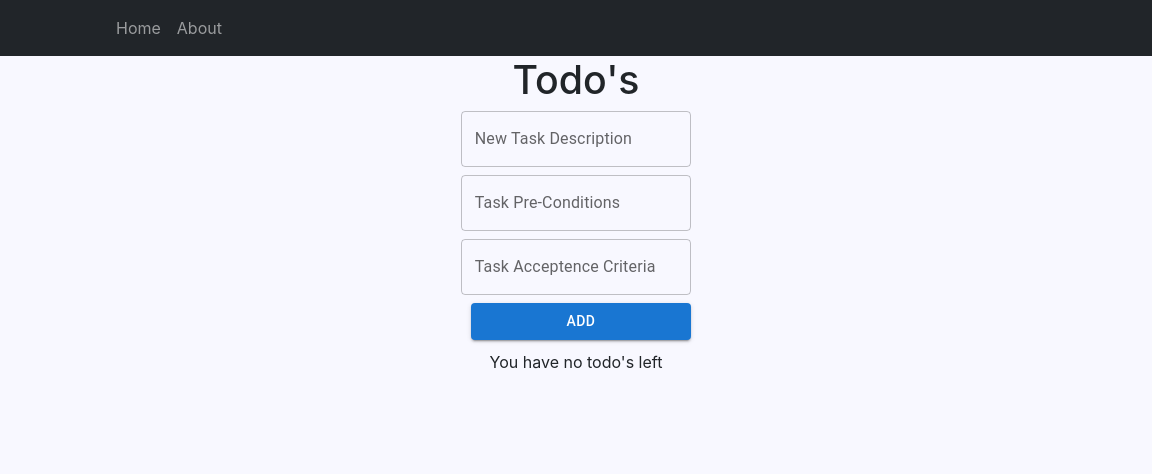
it: test that App component renders Task
Type "History Test" into the field labelled "New Task Description" at (576, 139), box [461,111,691,167]
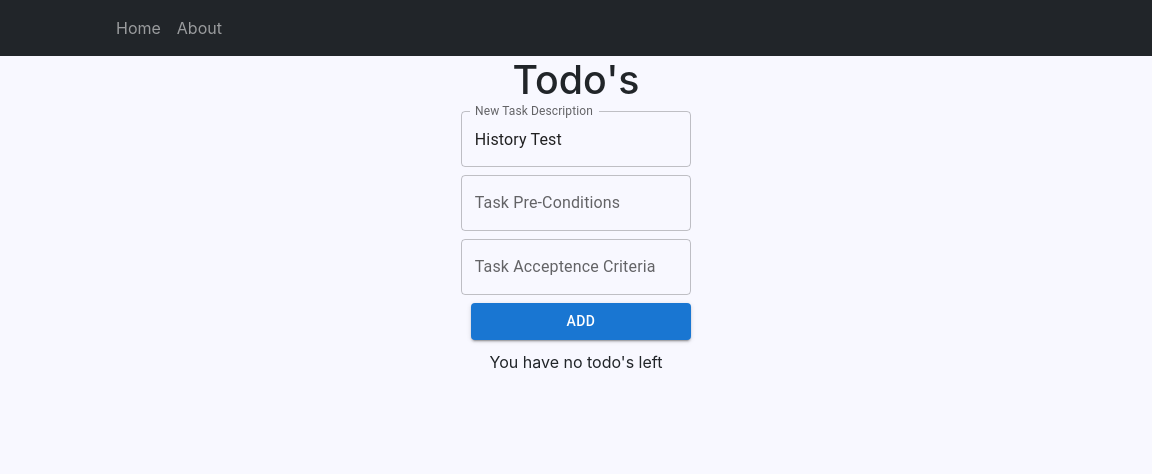
Click the button with test id "new-item-button" at (581, 321), box [471,303,691,340]
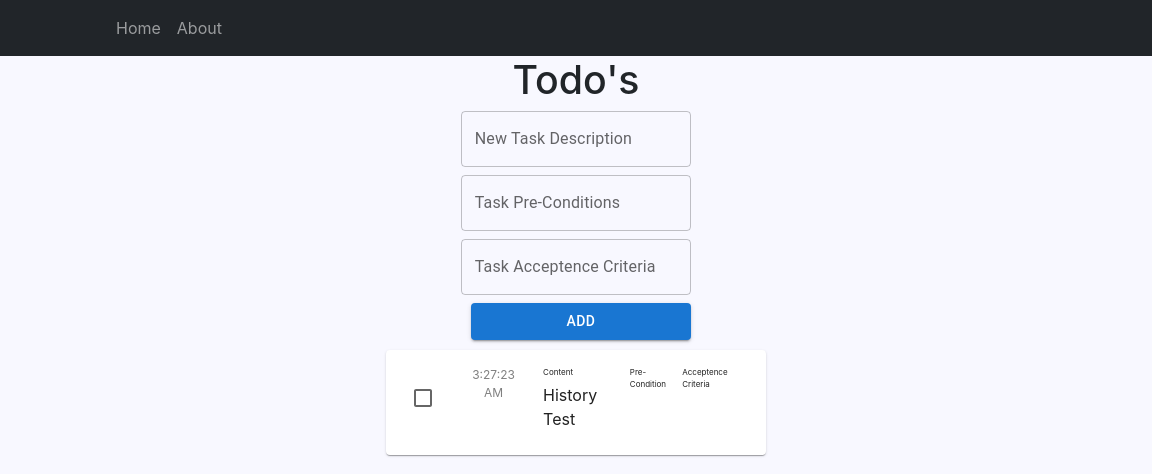
Check: the text "History Test" is shown, box [543,385,597,429]
